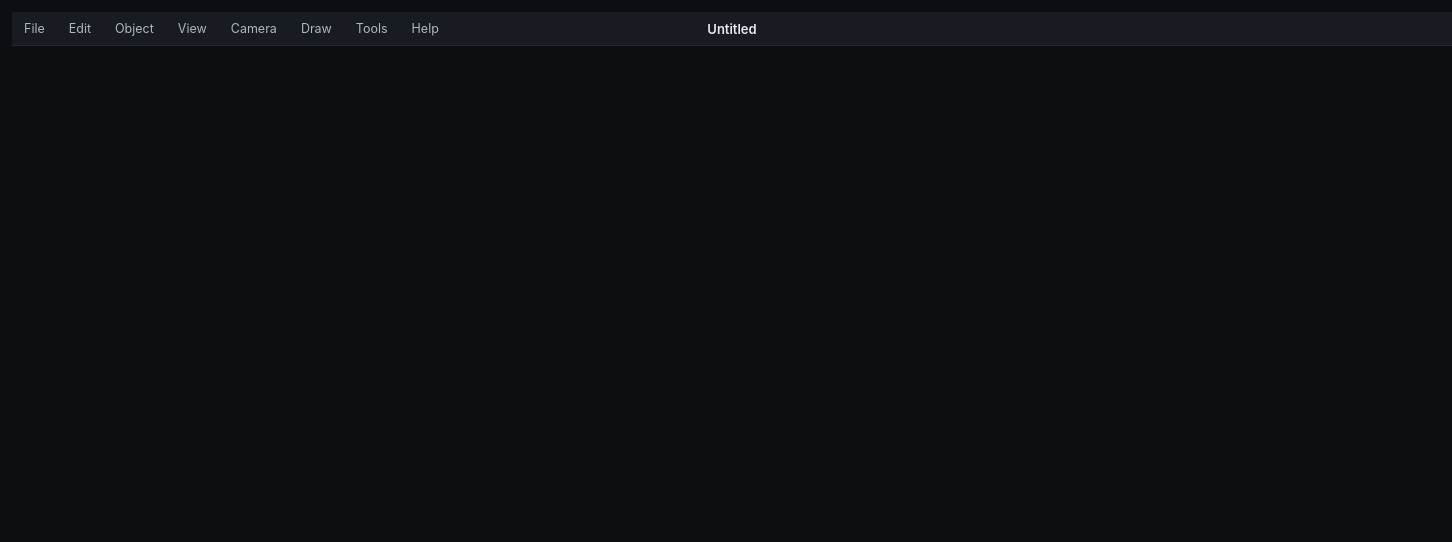
MenuBar › Tools menu no longer has a standalone "Toggle Section Active" command (moved to View)
This screenshot has width=1452, height=542.
Click the button "Tools".
click(372, 28)  # box x1=344 y1=12 x2=400 y2=45
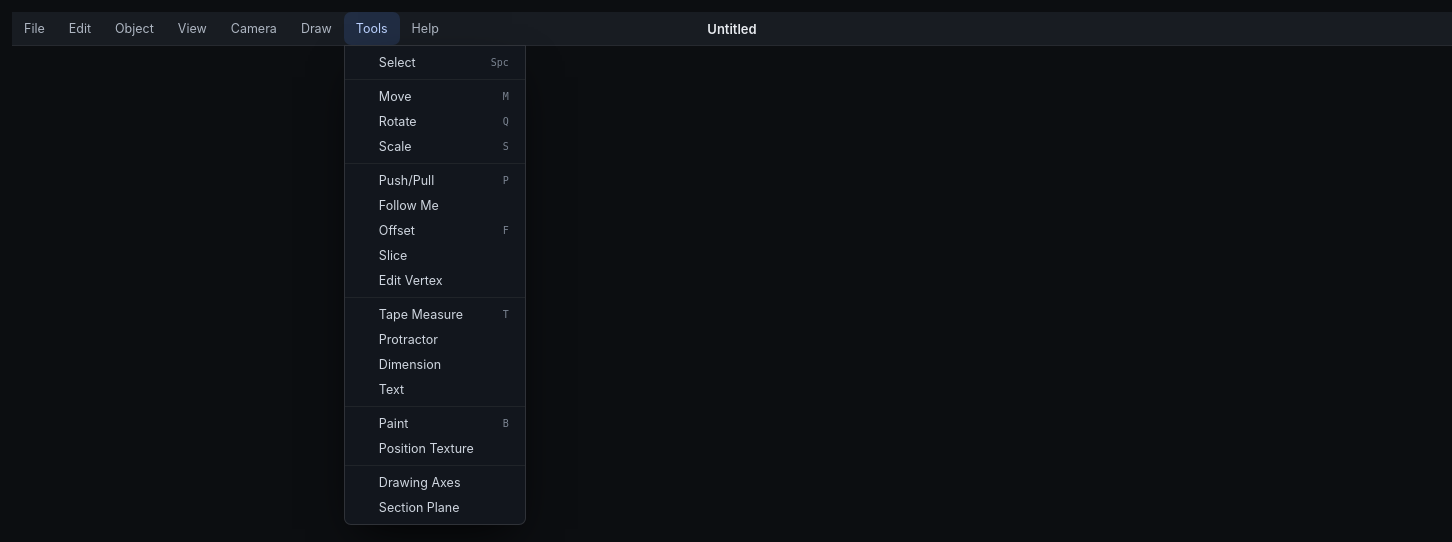
Expected: the text "Section Plane" is shown, x1=379 y1=500 x2=460 y2=515
